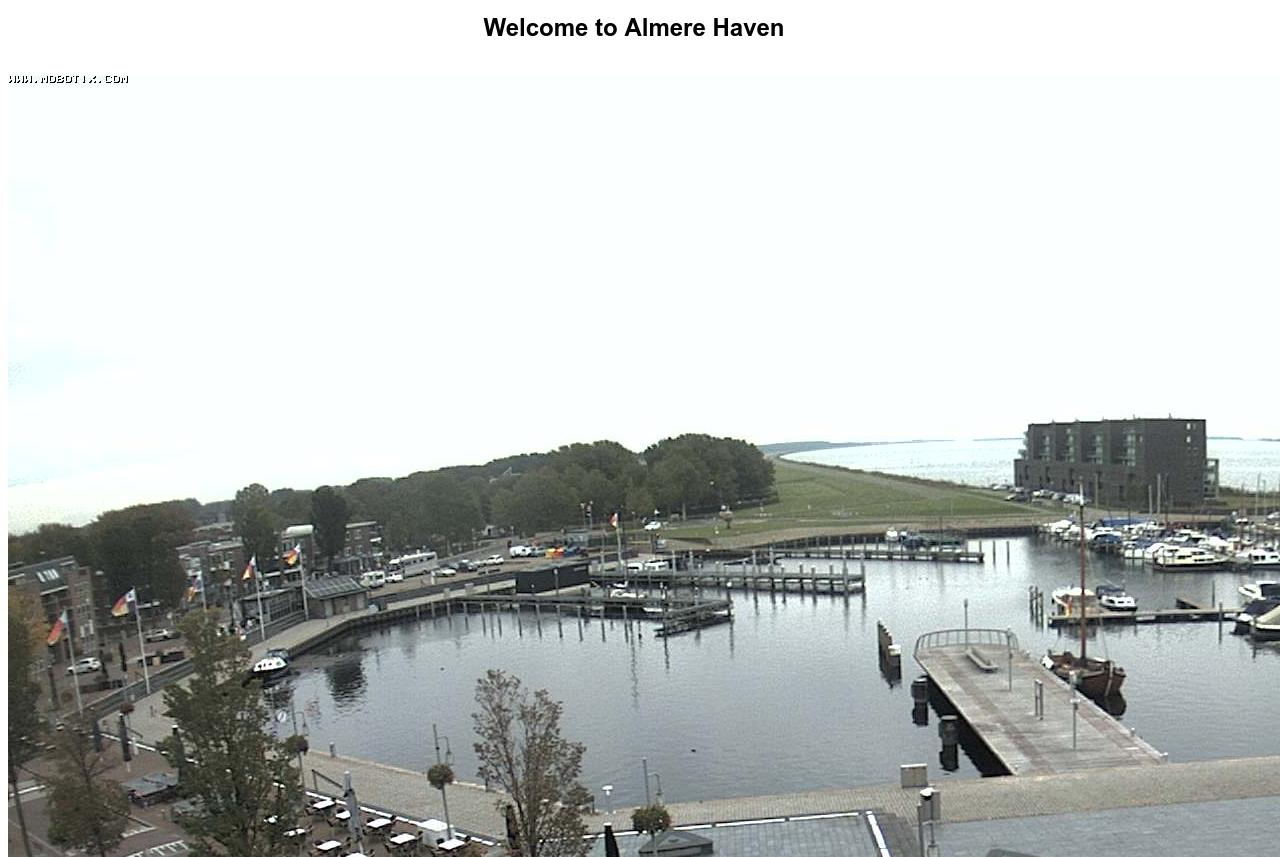maybe: (38, 606, 72, 648), (107, 584, 141, 623), (182, 562, 209, 598), (238, 553, 261, 582), (286, 539, 304, 566)
